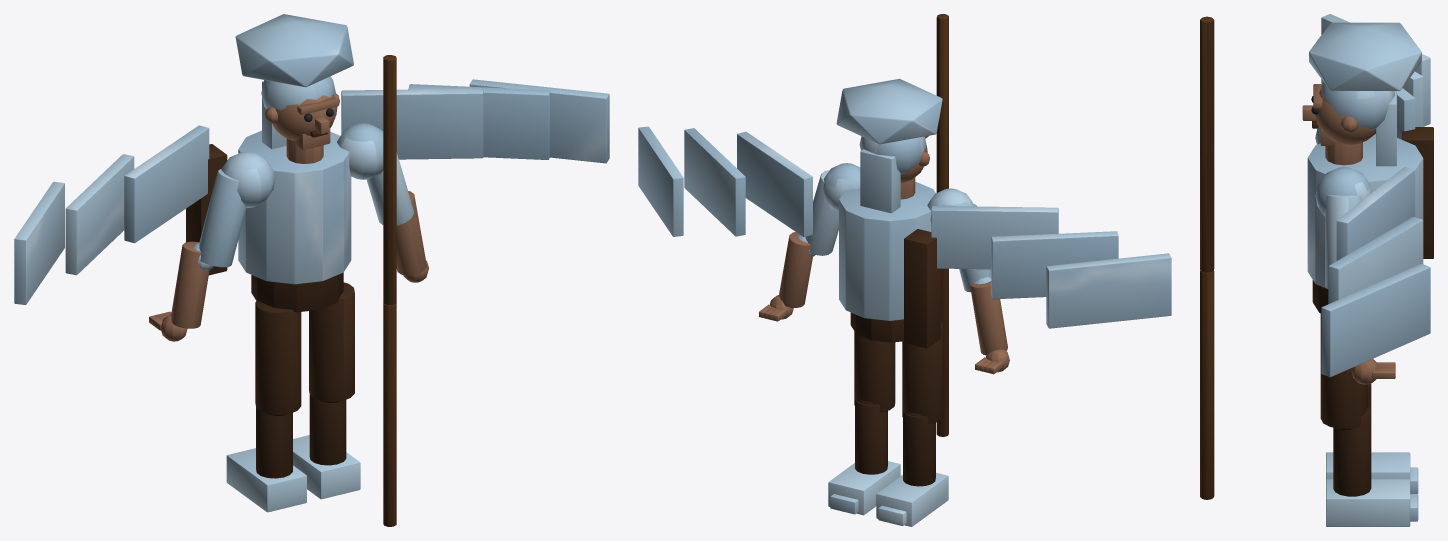
Rendered from unit_outcast_wind_rider.fbx.
3 views of the same model, side by side, from view 1: azimuth 30°, elevation 25°; view 2: azimuth 150°, elevation 25°; view 3: azimuth 270°, elevation 25° (orthographic). The views are drawn at different scales.
Parts seen in each view (by area): view 1: unit_outcast_wind_rider; view 2: unit_outcast_wind_rider; view 3: unit_outcast_wind_rider.
Boxes of the visible parts, bbox=[...] form: unit_outcast_wind_rider: bbox=[14, 14, 609, 526]; unit_outcast_wind_rider: bbox=[638, 14, 1171, 526]; unit_outcast_wind_rider: bbox=[1200, 14, 1433, 526].
Bounding box in the file's own units: 2.67 × 2.07 × 0.887.
